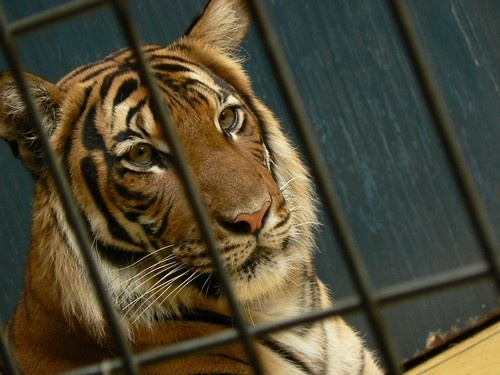tigre: (2, 1, 395, 374)
